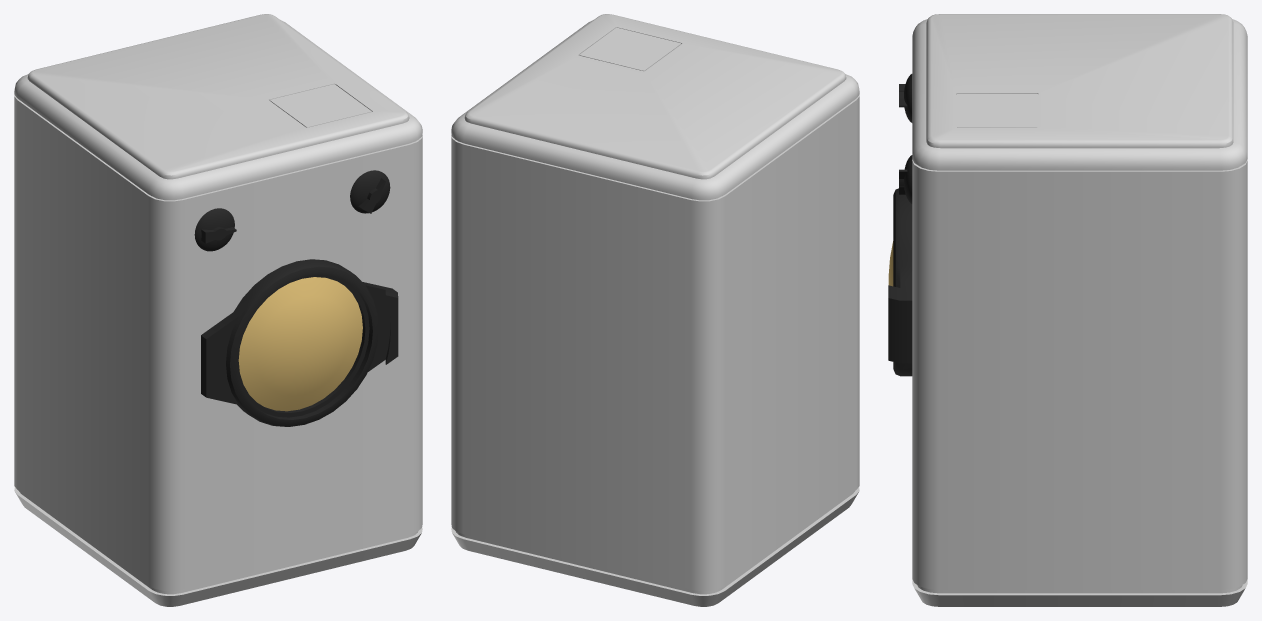
The model's file is Maquina de lavar.fbx.
The picture shows the model from 3 angles, left to right: view 1: azimuth 30°, elevation 25°; view 2: azimuth 150°, elevation 25°; view 3: azimuth 270°, elevation 25°; orthographic projection. The views are drawn at different scales.
Parts seen in each view (by area): view 1: Cube; view 2: Cube; view 3: Cube.
Boxes of the visible parts, box(x1,y1,x2,y2) form: Cube: box(14, 14, 422, 606); Cube: box(451, 14, 859, 606); Cube: box(888, 14, 1247, 606).
Size of the model in its own units: 200 by 304 by 214.
